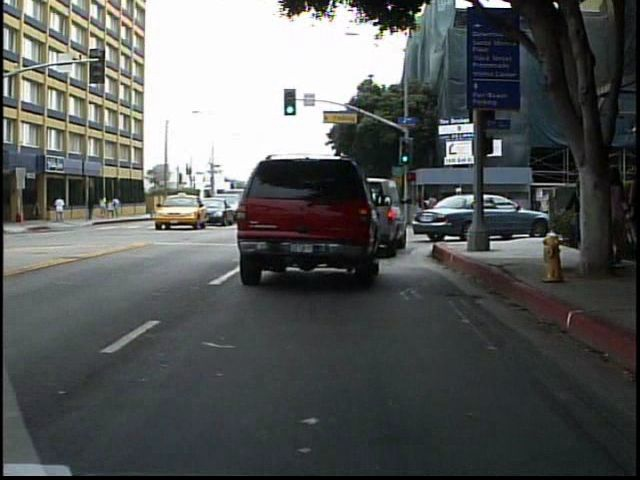person: (602, 167, 630, 272), (452, 184, 470, 230), (55, 195, 69, 227)
